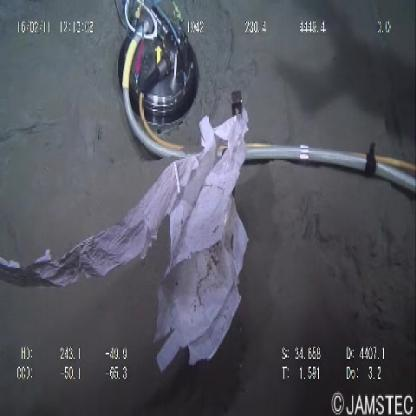Rov: (111, 2, 200, 140)
Rác: (1, 105, 251, 376)
